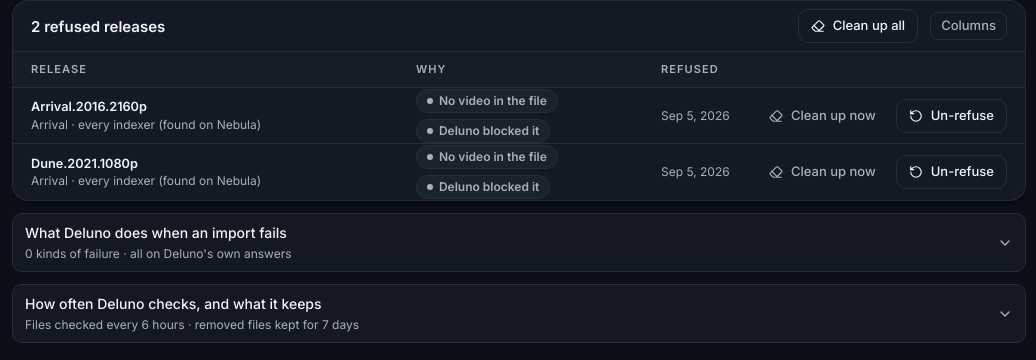
Test case: the blocklist's row states › while one Un-refuse is sent it reads Un-refusing and every other row's Un-refuse is disabled
The image size is (1036, 360).
Step 1. Click the button "Un-refuse" in the row of "Arrival.2016.2160p" → (951, 116), box x1=896 y1=98 x2=1007 y2=132
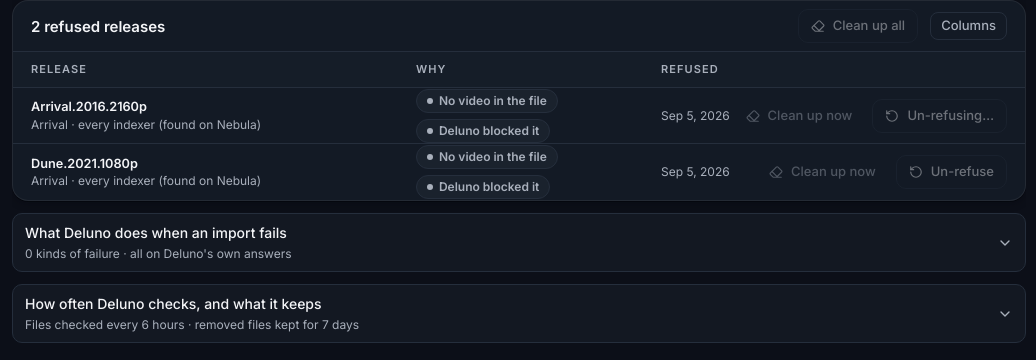
Now the button "Un-refusing…" is disabled, box x1=872 y1=98 x2=1007 y2=132
Now the button "Un-refuse" is disabled, box x1=896 y1=155 x2=1007 y2=189
